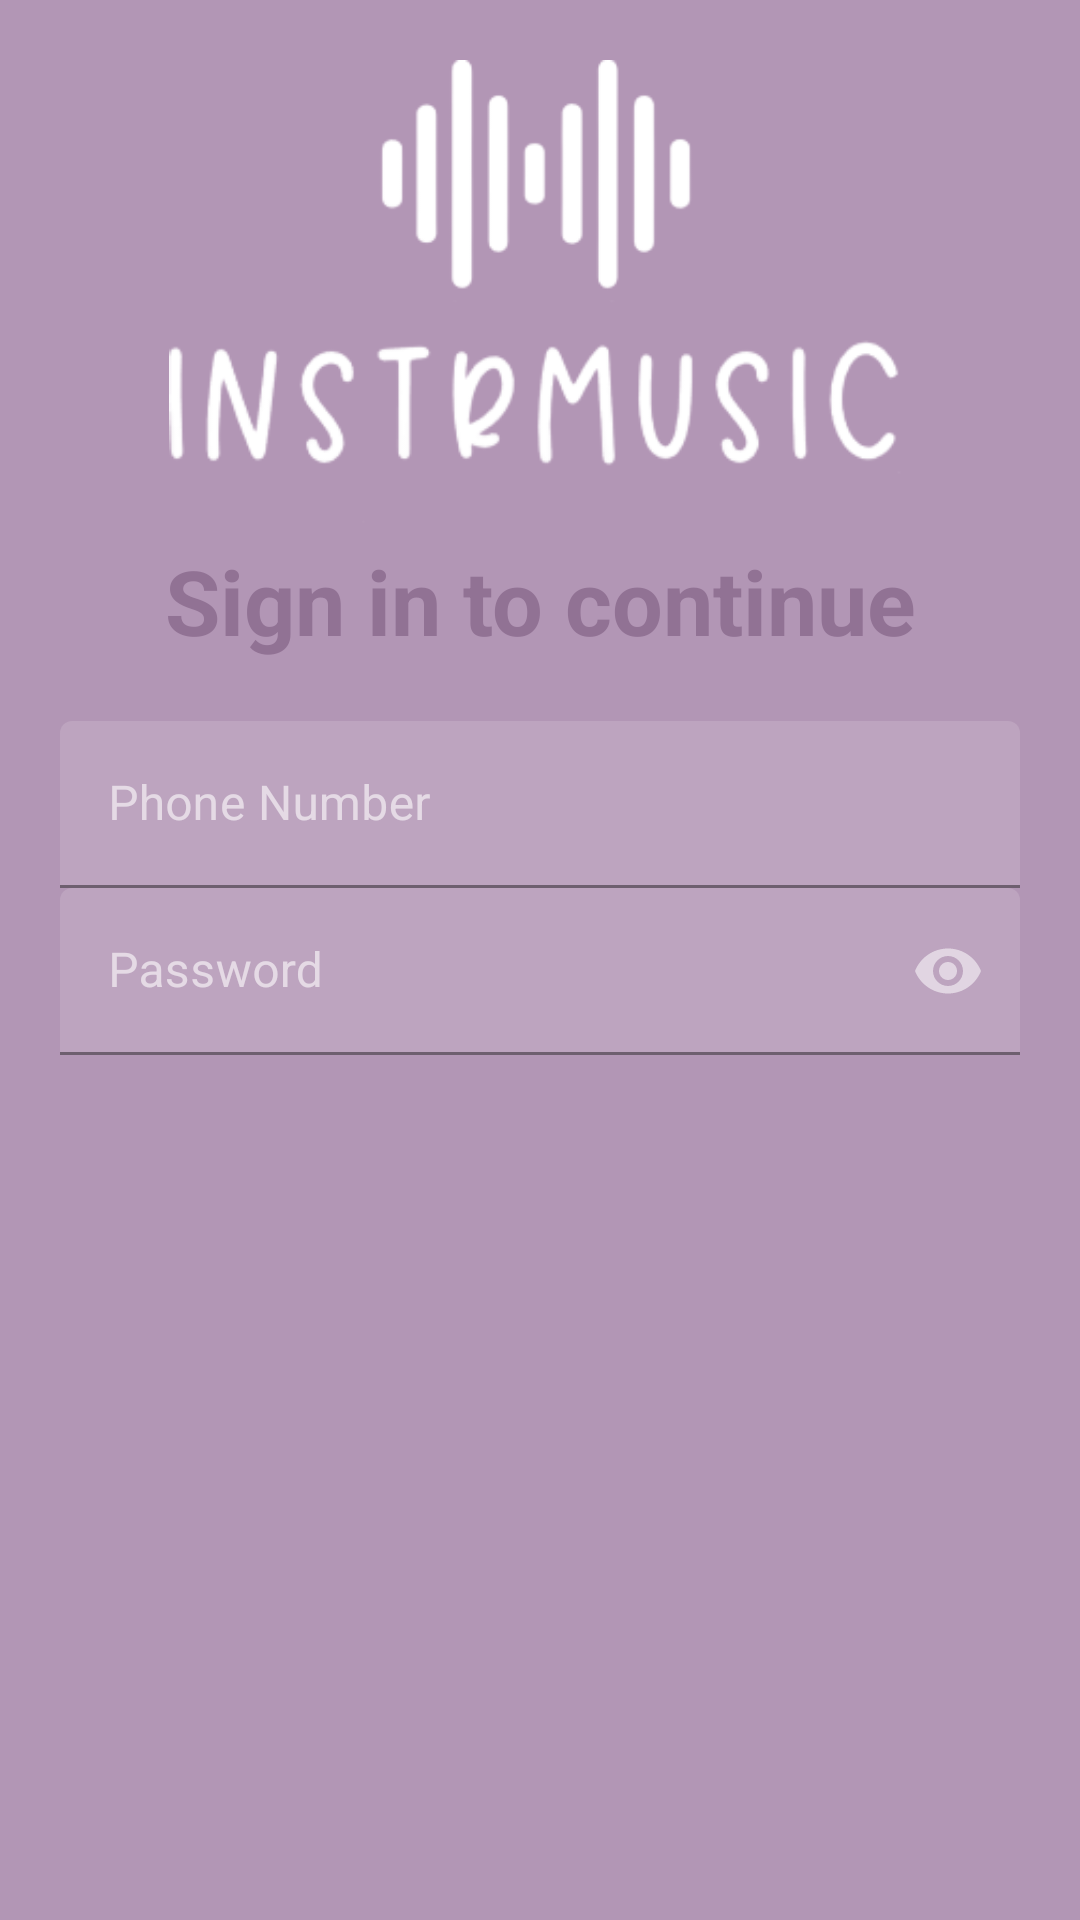

Point at icon controls on the screen. Image size 1080×1920, points as point (x, y).
barras: point (536, 174)
